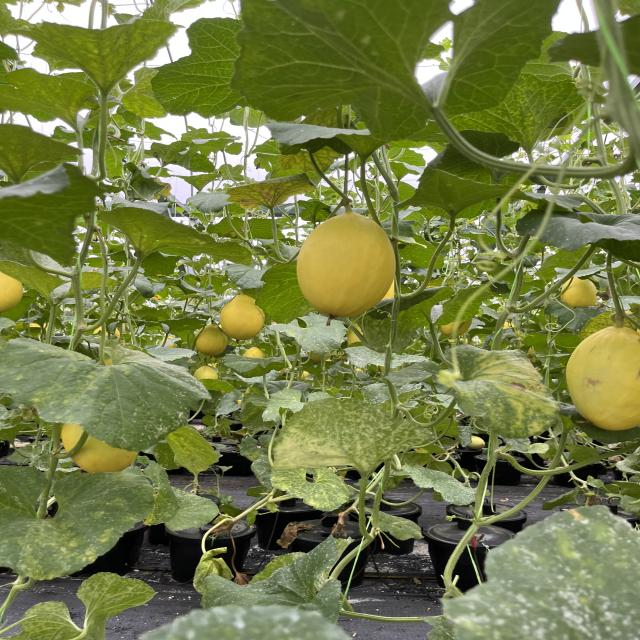CMV: (24, 10, 183, 89)
downy mildew: (448, 486, 640, 640), (0, 330, 199, 453), (252, 379, 427, 509), (0, 465, 143, 579), (406, 340, 560, 434), (20, 571, 161, 640), (225, 176, 305, 217)
